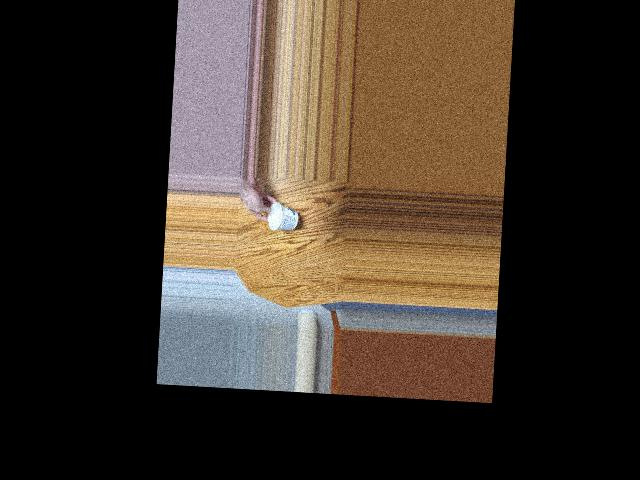cotage: (269, 205, 302, 237)
